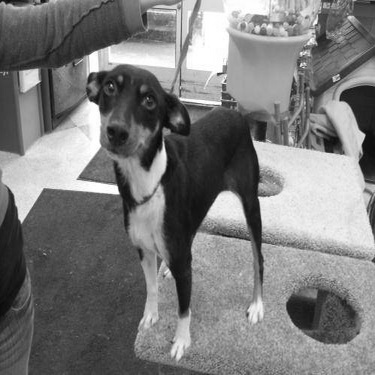dog: (68, 66, 271, 364)
